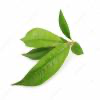Peach leaf: (10, 44, 70, 89), (18, 27, 64, 48), (17, 47, 52, 61), (57, 8, 71, 39), (71, 42, 83, 56)
